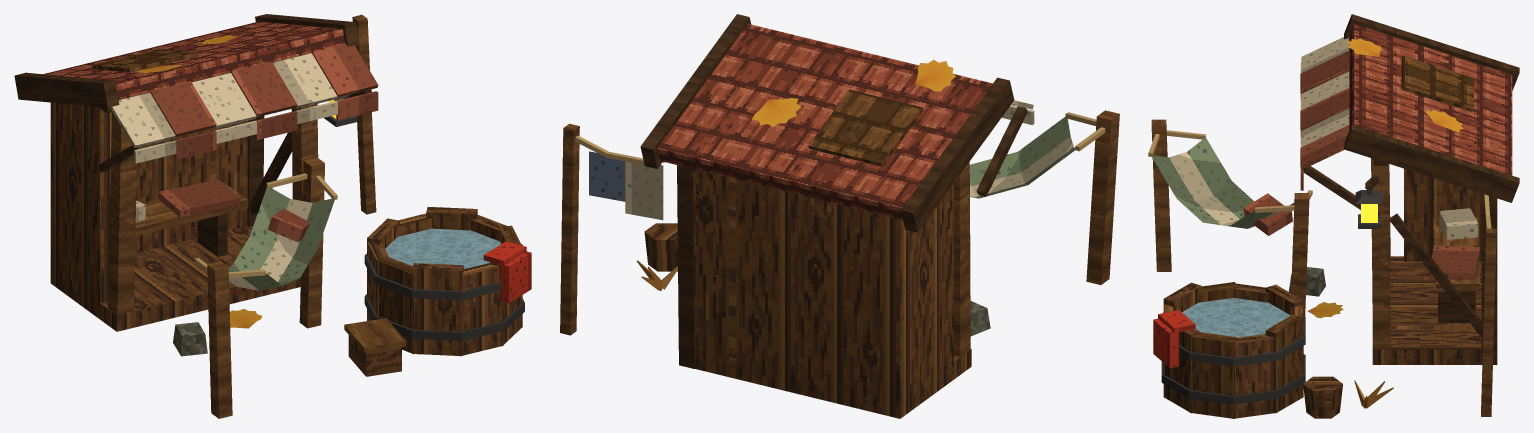
Rendered from rest_lodge.glb.
3 renders of one model, left to right at view 1: azimuth 30°, elevation 25°; view 2: azimuth 150°, elevation 25°; view 3: azimuth 270°, elevation 25°, orthographic. The views are drawn at different scales.
Visible parts, largest first — view 1: rest_lodge; view 2: rest_lodge; view 3: rest_lodge.
Part boxes in pixels (<box>): rest_lodge: <box>14,14,531,418</box>; rest_lodge: <box>560,14,1119,418</box>; rest_lodge: <box>1148,14,1519,418</box>.
Size of the model in its own units: 3.59 by 2.62 by 3.53.
Materials: 21 (14 with a texture image).
